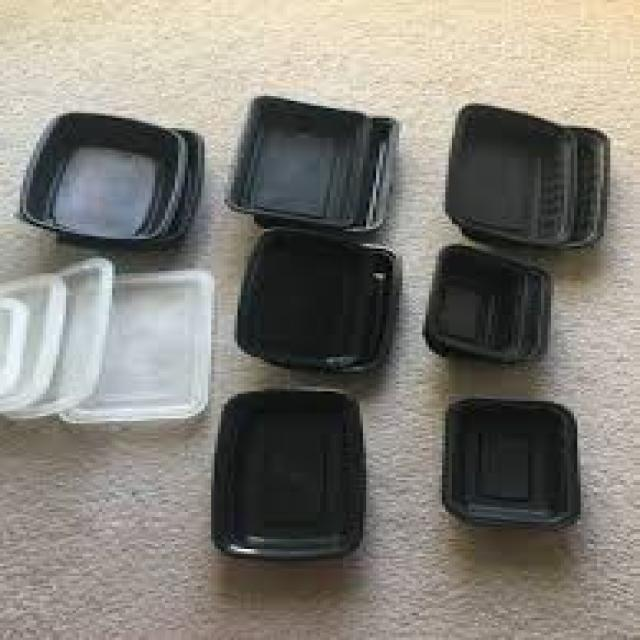disposable: (216, 382, 383, 570), (19, 94, 203, 261), (430, 366, 597, 544), (444, 95, 614, 267), (210, 100, 400, 240), (51, 276, 214, 428)
